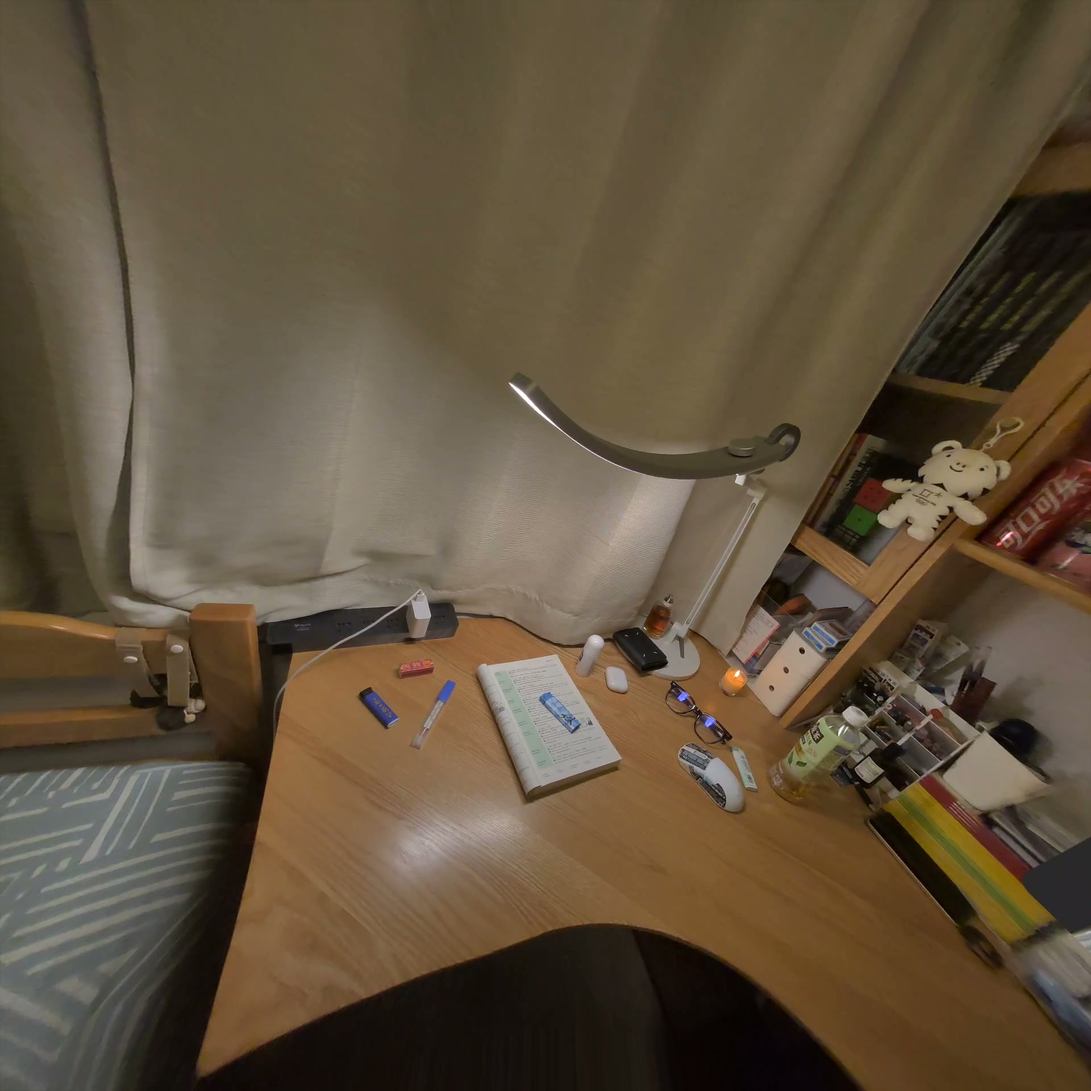lighter: (540, 693, 581, 733)
